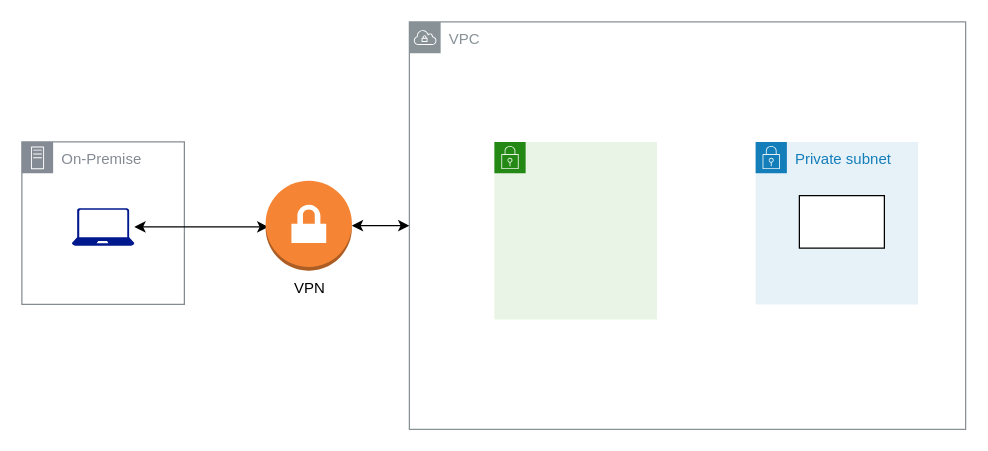
This 988x451 diagram has some shape labels left out. The shapes that lost their labels are listed below. From the top down, each one's centre as x and y in pixels, then its label:
[575,230]: Public subnet
[841,221]: private
